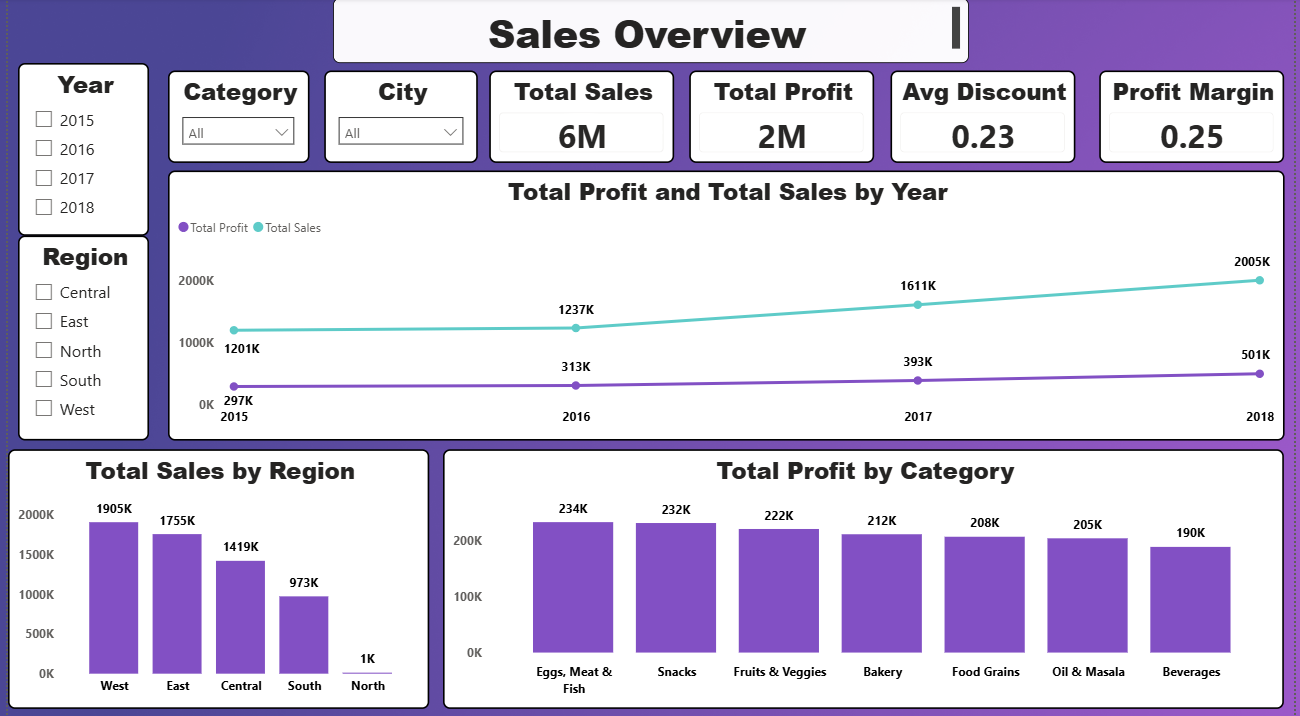

What the dashboard file says about the page in this screenshot:
{"tool":"powerbi","page":{"name":"Page 1","canvas":[1280,720],"ordinal":0},"visuals":[{"type":"cardVisual","title":"Total Sales","fields":{"Data":["Supermart Grocery Sales - Retail Analytics Dataset (1).Total Sales"]},"box":[478.9,72.1,184.1,92.1],"z":0},{"type":"cardVisual","title":"Total Profit","fields":{"Data":["Supermart Grocery Sales - Retail Analytics Dataset (1).Total Profit"]},"box":[678,72.1,184.1,92.1],"z":1000},{"type":"cardVisual","title":"Profit Margin","fields":{"Data":["Supermart Grocery Sales - Retail Analytics Dataset (1).Profit Margin %"]},"box":[1086,72.1,184.1,92.1],"z":2000},{"type":"cardVisual","title":"Avg Discount","fields":{"Data":["Supermart Grocery Sales - Retail Analytics Dataset (1).Avg Discount"]},"box":[878.2,72.1,184.1,92.1],"z":3000},{"type":"slicer","title":"Year","fields":{"Values":["Supermart Grocery Sales - Retail Analytics Dataset (1).Year"]},"box":[10,64.7,130.6,171.7],"z":4000},{"type":"slicer","title":"Category","fields":{"Values":["Supermart Grocery Sales - Retail Analytics Dataset (1).Category"]},"box":[159.2,72.1,140.6,92.1],"z":5000},{"type":"slicer","title":"Region","fields":{"Values":["Supermart Grocery Sales - Retail Analytics Dataset (1).Region"]},"box":[10,236.4,130.6,204],"z":6000},{"type":"slicer","title":"City","fields":{"Values":["Supermart Grocery Sales - Retail Analytics Dataset (1).Sub Category"]},"box":[314.7,72.1,153,92.1],"z":7000},{"type":"lineChart","fields":{"Category":["Supermart Grocery Sales - Retail Analytics Dataset (1).Year"],"Y":["Supermart Grocery Sales - Retail Analytics Dataset (1).Total Profit","Supermart Grocery Sales - Retail Analytics Dataset (1).Total Sales"]},"box":[159.2,171.7,1110.9,268.7],"z":8000},{"type":"clusteredColumnChart","fields":{"Category":["Supermart Grocery Sales - Retail Analytics Dataset (1).Region"],"Y":["Supermart Grocery Sales - Retail Analytics Dataset (1).Total Sales"]},"box":[0,449.1,419.2,258.7],"z":9000},{"type":"columnChart","fields":{"Category":["Supermart Grocery Sales - Retail Analytics Dataset (1).Category"],"Y":["Supermart Grocery Sales - Retail Analytics Dataset (1).Total Profit"]},"box":[432.9,449.1,837.2,258.7],"z":10000},{"type":"textbox","box":[323.4,0,633.2,64.7],"z":11000}]}

Visuals, with their boxes in screenshot pixels (x1, y1, x2, y2), scaled from the page's 1280x720 canvas onto the 1300x716 screenshot:
"Total Sales" cardVisual: 486, 72, 673, 163
"Total Profit" cardVisual: 689, 72, 876, 163
"Profit Margin" cardVisual: 1103, 72, 1290, 163
"Avg Discount" cardVisual: 892, 72, 1079, 163
"Year" slicer: 10, 64, 143, 235
"Category" slicer: 162, 72, 304, 163
"Region" slicer: 10, 235, 143, 438
"City" slicer: 320, 72, 475, 163
lineChart - Supermart Grocery Sales - Retail Analytics Dataset (1).Year x Supermart Grocery Sales - Retail Analytics Dataset (1).Total Profit: 162, 171, 1290, 438
clusteredColumnChart - Supermart Grocery Sales - Retail Analytics Dataset (1).Region x Supermart Grocery Sales - Retail Analytics Dataset (1).Total Sales: 0, 447, 426, 704
columnChart - Supermart Grocery Sales - Retail Analytics Dataset (1).Category x Supermart Grocery Sales - Retail Analytics Dataset (1).Total Profit: 440, 447, 1290, 704
textbox: 328, 0, 972, 64
